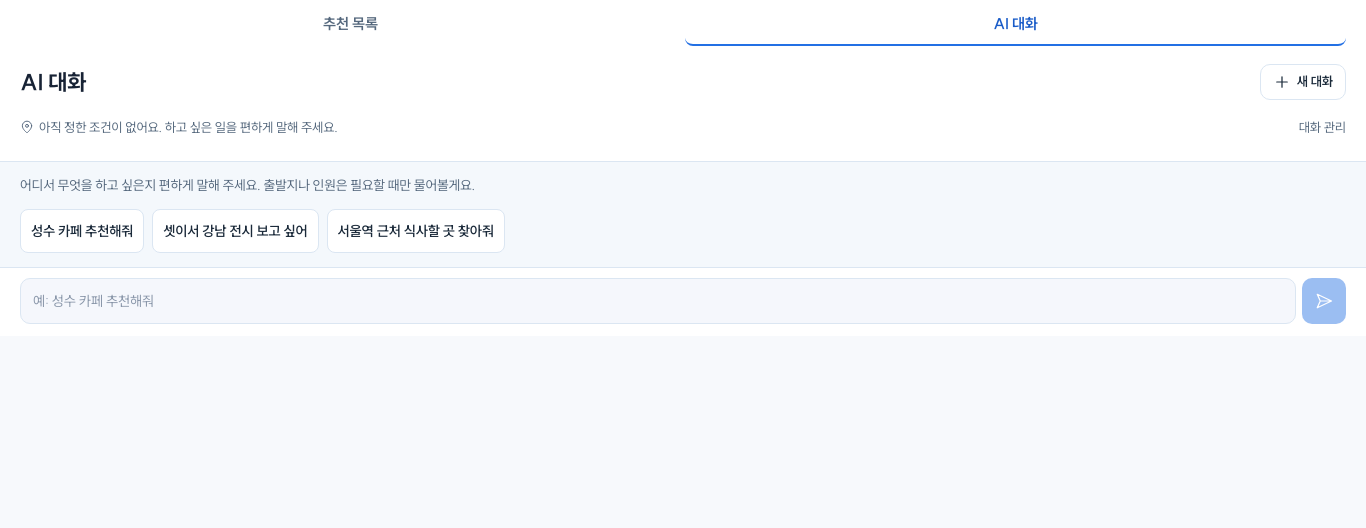
Test: ChatPanel › 구조화 질문이 없는 이전(P4) 질문은 텍스트로만 보여주고 실행 버튼을 만들지 않는다
Type "옛 질문 보여줘" into the field named "AI에게 보낼 메시지" at (658, 301), box [20, 278, 1296, 324]
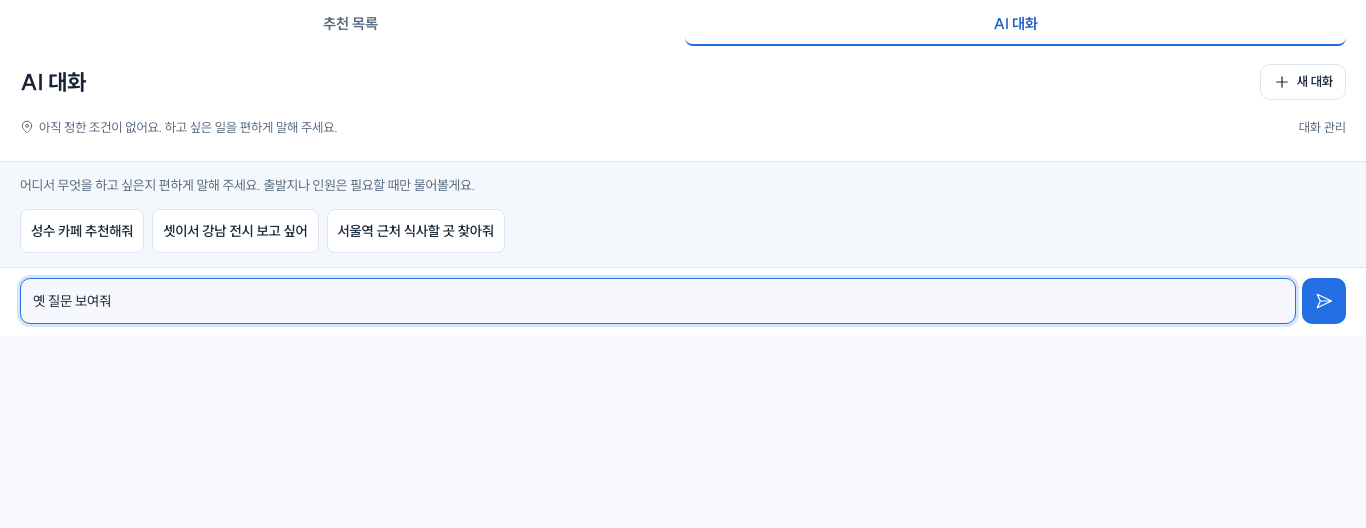
Click the button named "보내기" at (1324, 301), box [1302, 278, 1346, 324]
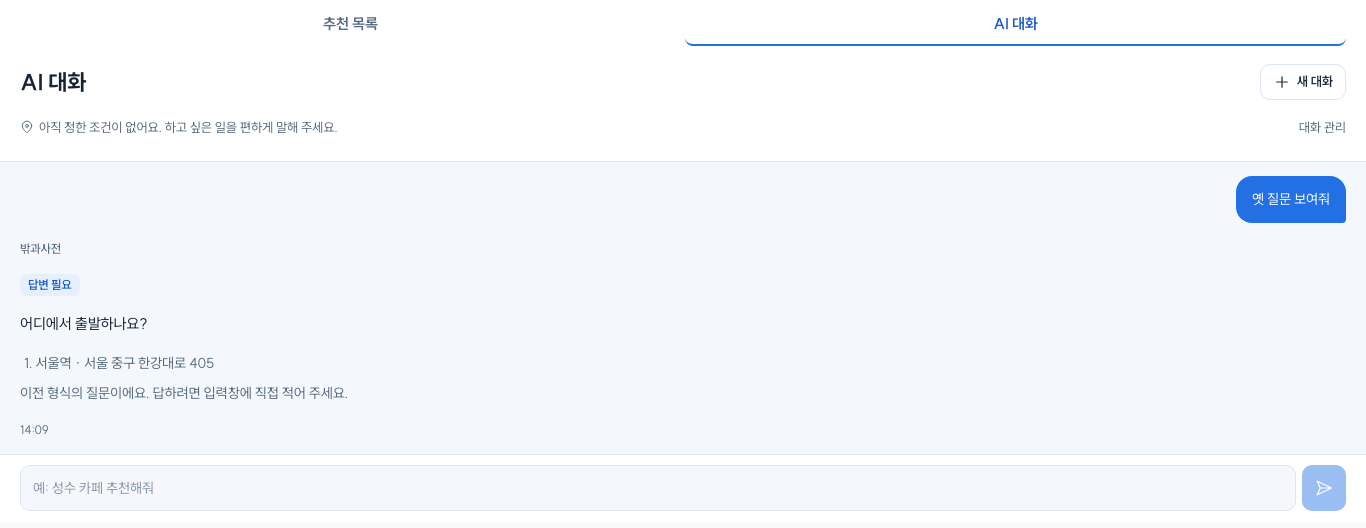
expect the list item "1. 서울역 · 서울 중구 한강대로 405" is shown: met, box [24, 354, 214, 372]
expect the text "이전 형식의 질문이에요. 답하려면 입력창에 직접 적어 주세요." is shown: met, box [20, 384, 348, 402]
